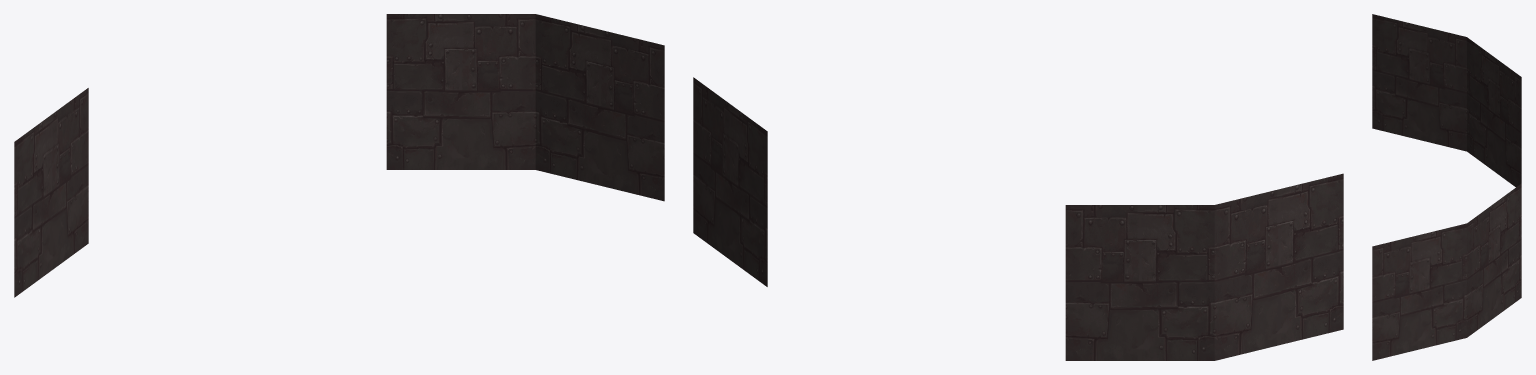
Rendered from sn_jixie_yuanqiangmian_001.FBX.
3 views of the same model, side by side, from view 1: azimuth 30°, elevation 25°; view 2: azimuth 150°, elevation 25°; view 3: azimuth 270°, elevation 25° (orthographic). The views are drawn at different scales.
Visible parts, largest first — view 1: sn_jixie_yuanqiangmian_001; view 2: sn_jixie_yuanqiangmian_001; view 3: sn_jixie_yuanqiangmian_001.
Boxes of the visible parts, left/top/right/bottom form: sn_jixie_yuanqiangmian_001: left=14, top=14, right=664, bottom=297; sn_jixie_yuanqiangmian_001: left=693, top=77, right=1343, bottom=360; sn_jixie_yuanqiangmian_001: left=1372, top=14, right=1521, bottom=360.
Bounding box in the file's own units: 63.6 × 17.23 × 14.64.
